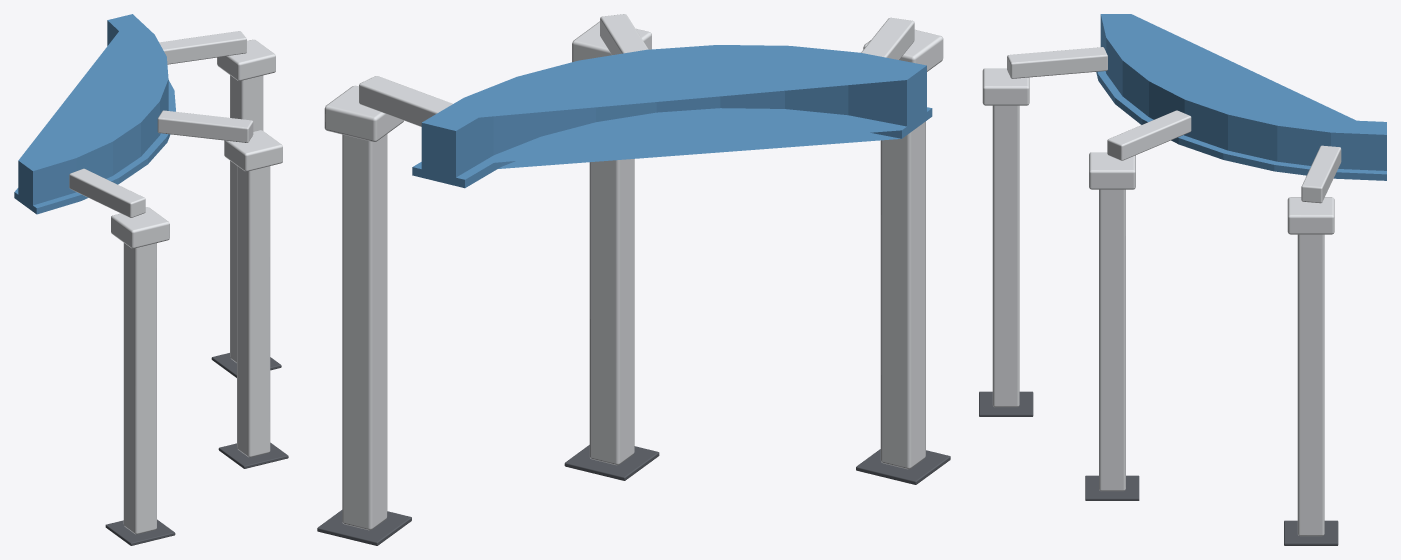
File: overhead-rail-curve.glb
The picture shows the model from 3 angles, left to right: view 1: azimuth 30°, elevation 25°; view 2: azimuth 150°, elevation 25°; view 3: azimuth 270°, elevation 25°; orthographic projection. The views are drawn at different scales.
Parts seen in each view (by area): view 1: overhead-rail-curve; view 2: overhead-rail-curve; view 3: overhead-rail-curve.
Part boxes in pixels (x1,y1,x2,y2): overhead-rail-curve: (14, 14, 288, 545); overhead-rail-curve: (317, 14, 950, 545); overhead-rail-curve: (979, 14, 1386, 545).
Bounding box in the file's own units: 4.52 × 4.4 × 4.52.
